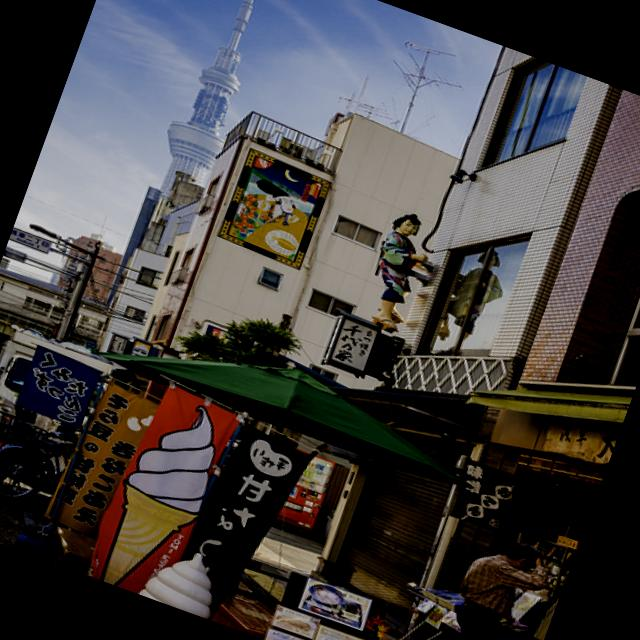Vehicle: (0, 326, 125, 463)
